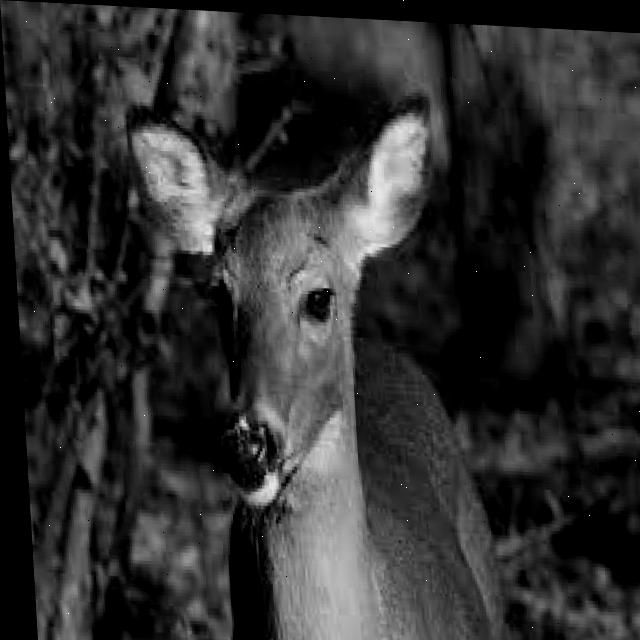Deer: (115, 77, 513, 640)
